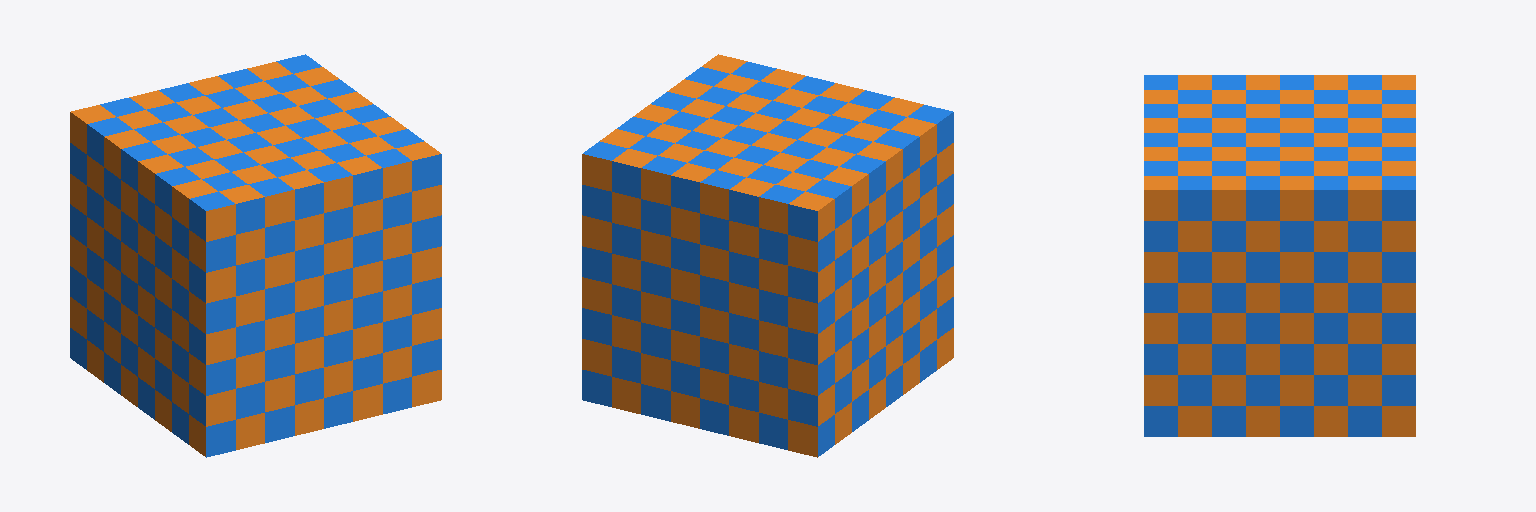
3 renders of one model, left to right at view 1: azimuth 30°, elevation 25°; view 2: azimuth 150°, elevation 25°; view 3: azimuth 270°, elevation 25°, orthographic.
Parts seen in each view (by area): view 1: Cube; view 2: Cube; view 3: Cube.
Part boxes in pixels (bbox=[...]): Cube: bbox=[70, 54, 441, 457]; Cube: bbox=[582, 54, 953, 457]; Cube: bbox=[1144, 75, 1415, 436].
Size of the model in its own units: 2 by 2 by 2.
1 materials, 1 textured.